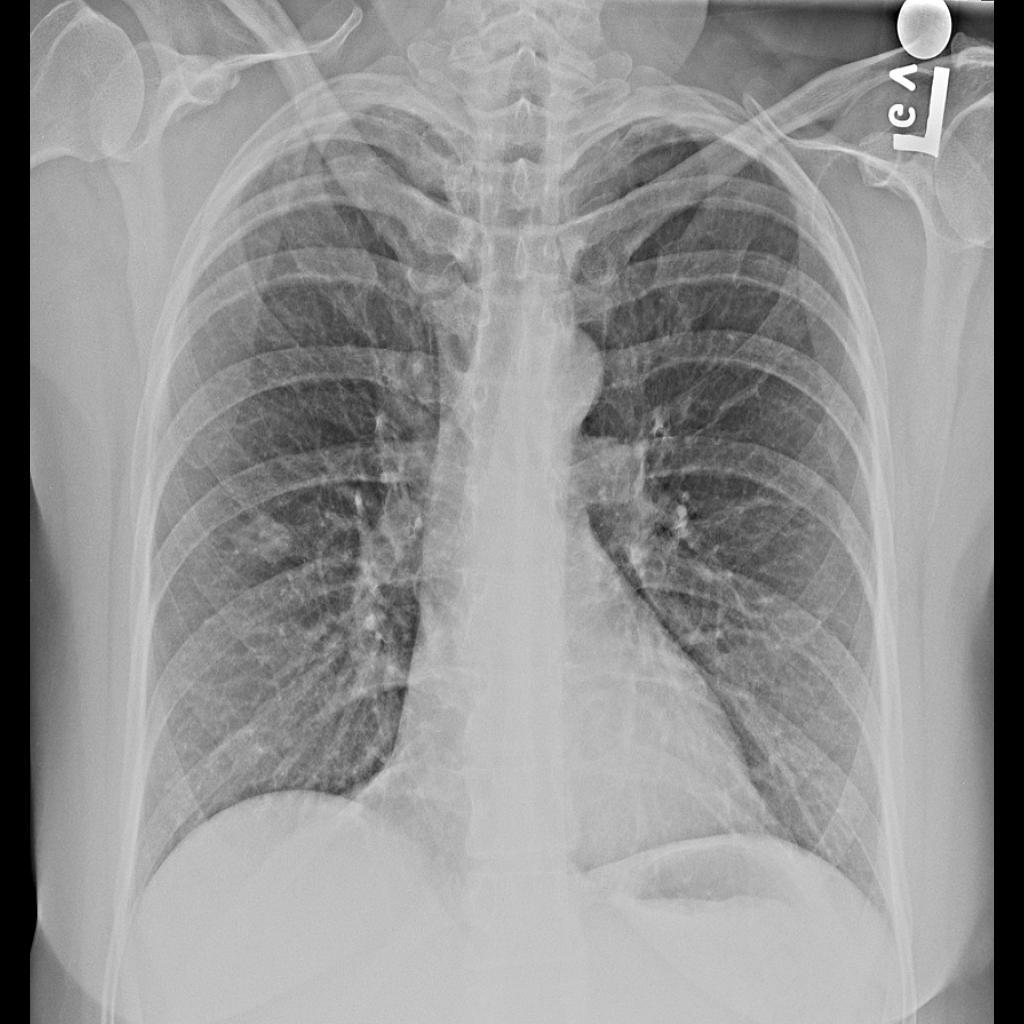Nodule: (234, 510, 293, 570)
